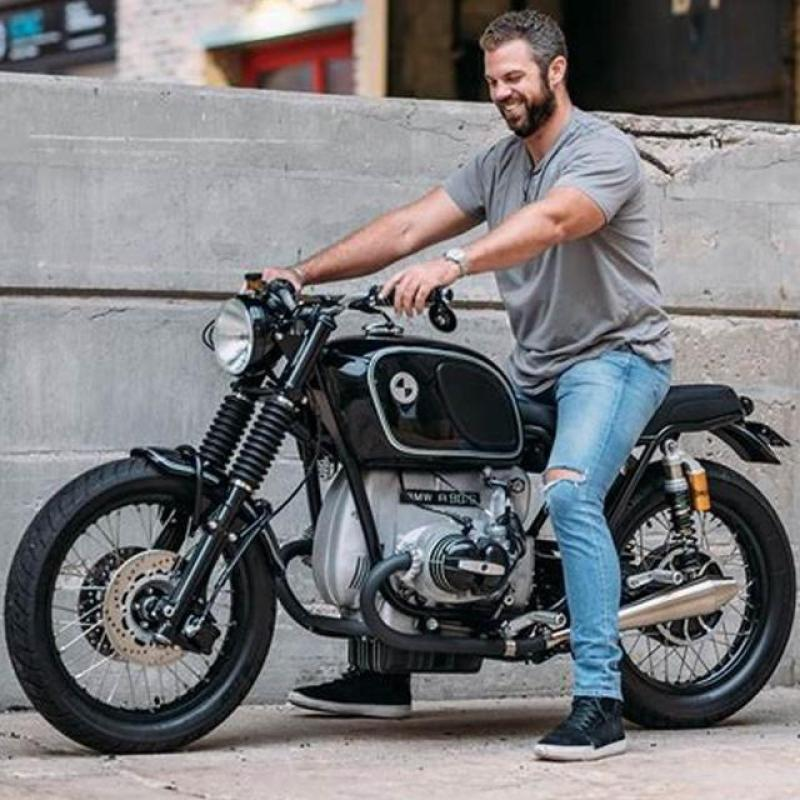nohelmet: (449, 0, 595, 146)
